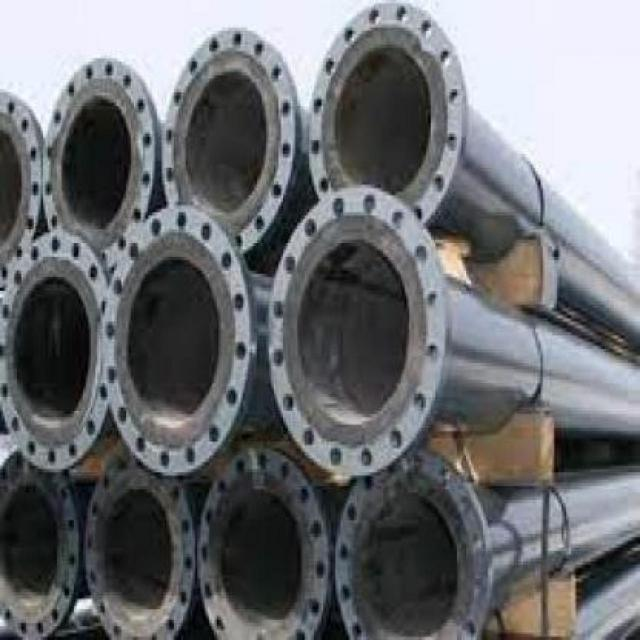pipe: (292, 226, 417, 434), (118, 250, 227, 432), (348, 480, 468, 638), (330, 39, 439, 206), (208, 482, 316, 638), (176, 64, 277, 222), (3, 268, 100, 431), (53, 89, 141, 233), (95, 482, 181, 627), (0, 474, 66, 627), (0, 113, 28, 261)
